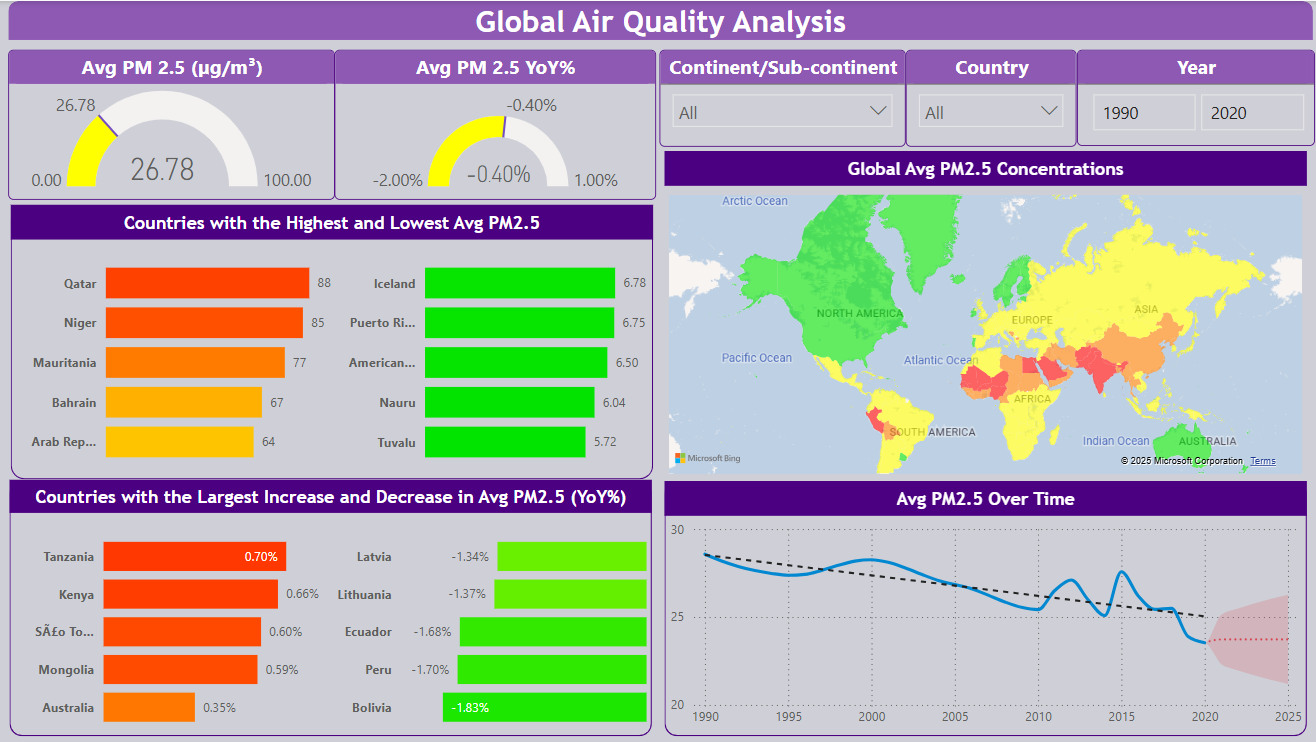

The page's visual inventory and layout, read from the dashboard file:
{"tool":"powerbi","page":{"name":"Page 1","canvas":[1280,720],"ordinal":0},"visuals":[{"type":"shape","box":[643.8,463.8,620,246.2],"z":0},{"type":"shape","box":[12.5,463.8,620,246.2],"z":1000},{"type":"shape","box":[13.8,197.5,620,263.8],"z":2000},{"type":"filledMap","fields":{"Category":["processed_data.country_code"]},"box":[643.8,182.5,620,278.8],"z":3000},{"type":"gauge","title":"Avg PM 2.5 (µg/m³)","fields":{"Y":["Avg(processed_data.pm25)"]},"box":[11.2,47.5,315,145],"z":4000},{"type":"clusteredBarChart","fields":{"Y":["Avg(processed_data.pm25)"],"Category":["processed_data.country_name"]},"box":[13.8,230,314.9,232.8],"z":4000,"group":"g1"},{"type":"lineChart","fields":{"Category":["processed_data.year"],"Y":["Avg(processed_data.pm25)"]},"box":[645,496.2,618.8,213.8],"z":5000},{"type":"slicer","title":"Year","fields":{"Values":["processed_data.year"]},"box":[1042.4,47.1,229.2,92.9],"z":6000},{"type":"clusteredBarChart","fields":{"Y":["_measures.Average of pm25 YoY%"],"Category":["processed_data.country_name"]},"box":[12.8,495.6,310.1,221.8],"z":6000,"group":"g2"},{"type":"slicer","title":"Country","fields":{"Values":["processed_data.country_name"]},"box":[877.5,47.5,165,93.8],"z":7000},{"type":"clusteredBarChart","fields":{"Y":["Avg(processed_data.pm25)"],"Category":["processed_data.country_name"]},"box":[323.9,230,308.8,232.8],"z":7000,"group":"g1"},{"type":"shape","box":[12.5,462.5,620,32.2],"z":7000,"group":"g2"},{"type":"slicer","title":"Continent/Sub-continent","fields":{"Values":["UNSD — Methodology.Region Hierarchy.Region","UNSD — Methodology.Region Hierarchy.Sub-region"]},"box":[640,47.5,237.5,93.8],"z":8000},{"type":"clusteredBarChart","fields":{"Y":["_measures.Average of pm25 YoY%"],"Category":["processed_data.country_name"]},"box":[322.9,495.6,310.1,221.8],"z":8000,"group":"g2"},{"type":"gauge","title":"Avg PM 2.5 YoY%","fields":{"Y":["_measures.Average of pm25 YoY%"]},"box":[326.2,47.5,310,145],"z":9000},{"type":"shape","box":[11,0,1259.5,37.9],"z":10000},{"type":"shape","box":[13.8,197,620,33.8],"z":10001,"group":"g1"},{"type":"group","id":"g1","title":"Group 2","box":[13.8,197,620,265.8],"z":11000},{"type":"shape","box":[643.8,463.8,620,33.8],"z":12000},{"type":"group","id":"g2","title":"Group 3","box":[12.5,462.5,620,255],"z":13000},{"type":"shape","box":[643.8,145,620,33.8],"z":14000}]}

Visuals, with their boxes in screenshot pixels (x1, y1, x2, y2), scaled from the page's 1280x720 canvas onto the 1316x742 screenshot:
shape: <region>662, 478, 1299, 732</region>
shape: <region>13, 478, 650, 732</region>
shape: <region>14, 204, 652, 475</region>
filledMap - processed_data.country_code: <region>662, 188, 1299, 475</region>
"Avg PM 2.5 (µg/m³)" gauge: <region>12, 49, 335, 198</region>
clusteredBarChart - Avg(processed_data.pm25) x processed_data.country_name: <region>14, 237, 338, 477</region>
lineChart - processed_data.year x Avg(processed_data.pm25): <region>663, 511, 1299, 732</region>
"Year" slicer: <region>1072, 49, 1307, 144</region>
clusteredBarChart - _measures.Average of pm25 YoY% x processed_data.country_name: <region>13, 511, 332, 739</region>
"Country" slicer: <region>902, 49, 1072, 146</region>
clusteredBarChart - Avg(processed_data.pm25) x processed_data.country_name: <region>333, 237, 650, 477</region>
shape: <region>13, 477, 650, 510</region>
"Continent/Sub-continent" slicer: <region>658, 49, 902, 146</region>
clusteredBarChart - _measures.Average of pm25 YoY% x processed_data.country_name: <region>332, 511, 651, 739</region>
"Avg PM 2.5 YoY%" gauge: <region>335, 49, 654, 198</region>
shape: <region>11, 0, 1306, 39</region>
shape: <region>14, 203, 652, 238</region>
"Group 2" group: <region>14, 203, 652, 477</region>
shape: <region>662, 478, 1299, 513</region>
"Group 3" group: <region>13, 477, 650, 739</region>
shape: <region>662, 149, 1299, 184</region>
